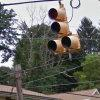Traffic light: (36, 3, 83, 54)
